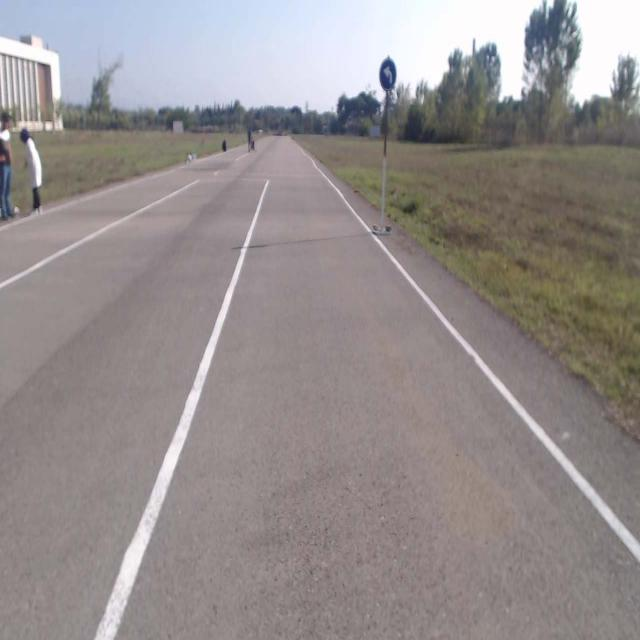sol: (379, 58, 395, 92)
